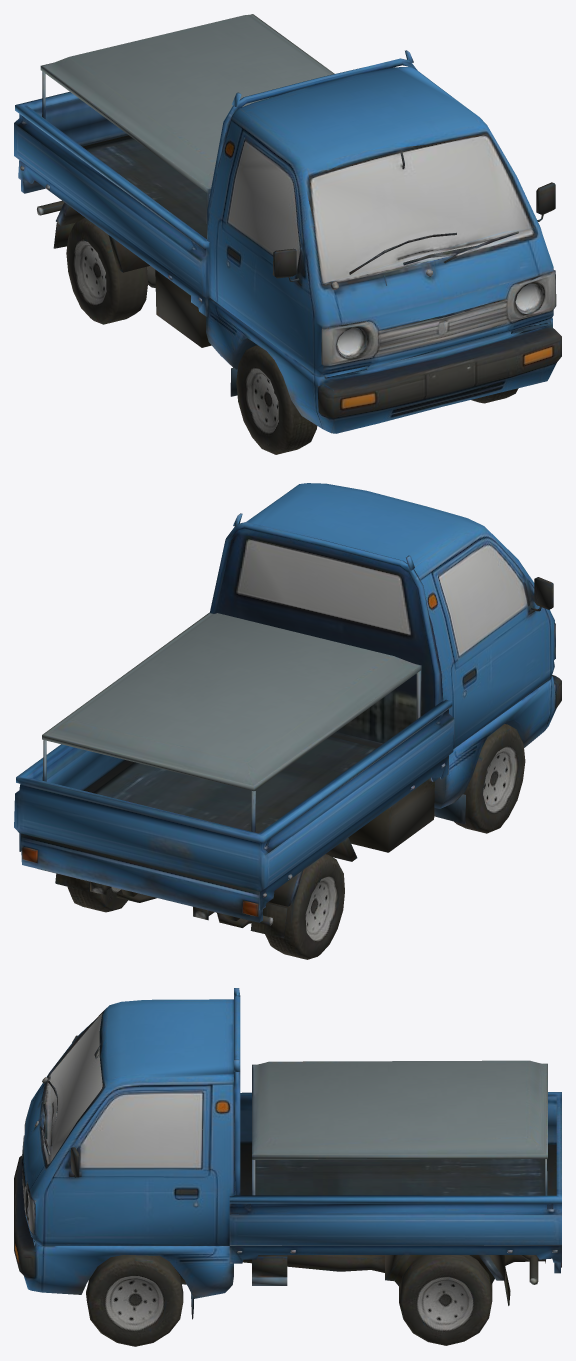
Rendered from minitruck.glb.
3 renders of one model, top to bottom at view 1: azimuth 30°, elevation 25°; view 2: azimuth 150°, elevation 25°; view 3: azimuth 270°, elevation 25°, orthographic. The views are drawn at different scales.
Parts seen in each view (by area): view 1: tripo_node_06f32662-f393-4174-a139-0e2b409b0779; view 2: tripo_node_06f32662-f393-4174-a139-0e2b409b0779; view 3: tripo_node_06f32662-f393-4174-a139-0e2b409b0779.
Part boxes in pixels (bbox=[...]): tripo_node_06f32662-f393-4174-a139-0e2b409b0779: bbox=[14, 14, 561, 454]; tripo_node_06f32662-f393-4174-a139-0e2b409b0779: bbox=[14, 483, 561, 959]; tripo_node_06f32662-f393-4174-a139-0e2b409b0779: bbox=[14, 988, 561, 1346].
Bounding box in the file's own units: 0.5215 × 0.5488 × 0.998.
1 material, 1 textured.
